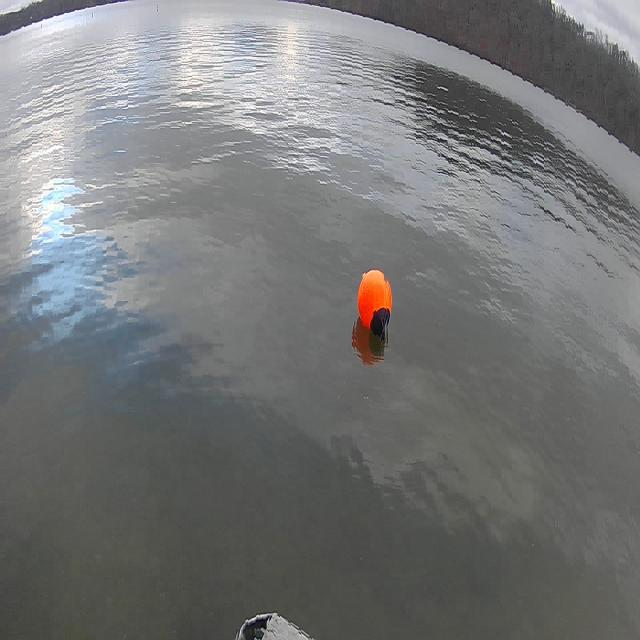Buoy: (354, 260, 396, 340)
